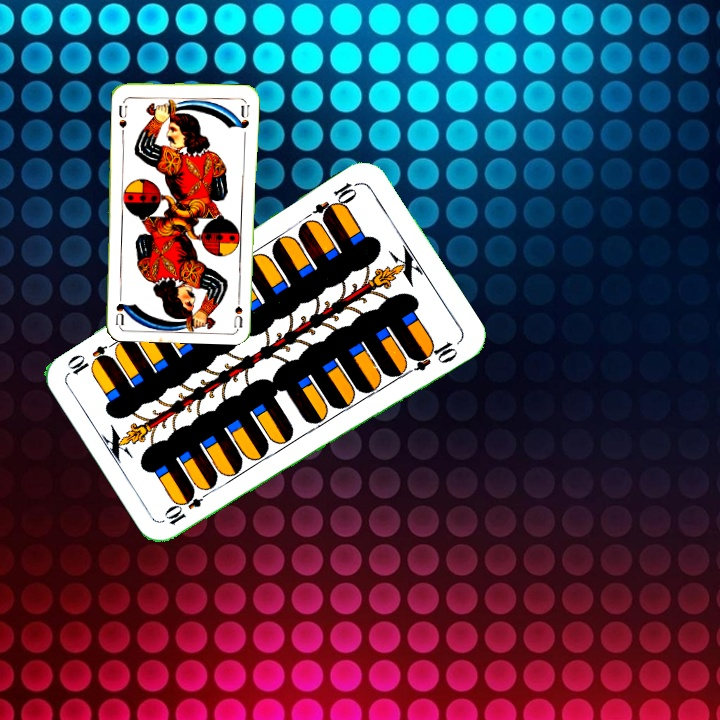E10: (309, 177, 362, 223), (162, 484, 215, 528)
SU: (230, 288, 245, 328), (115, 101, 129, 130)
